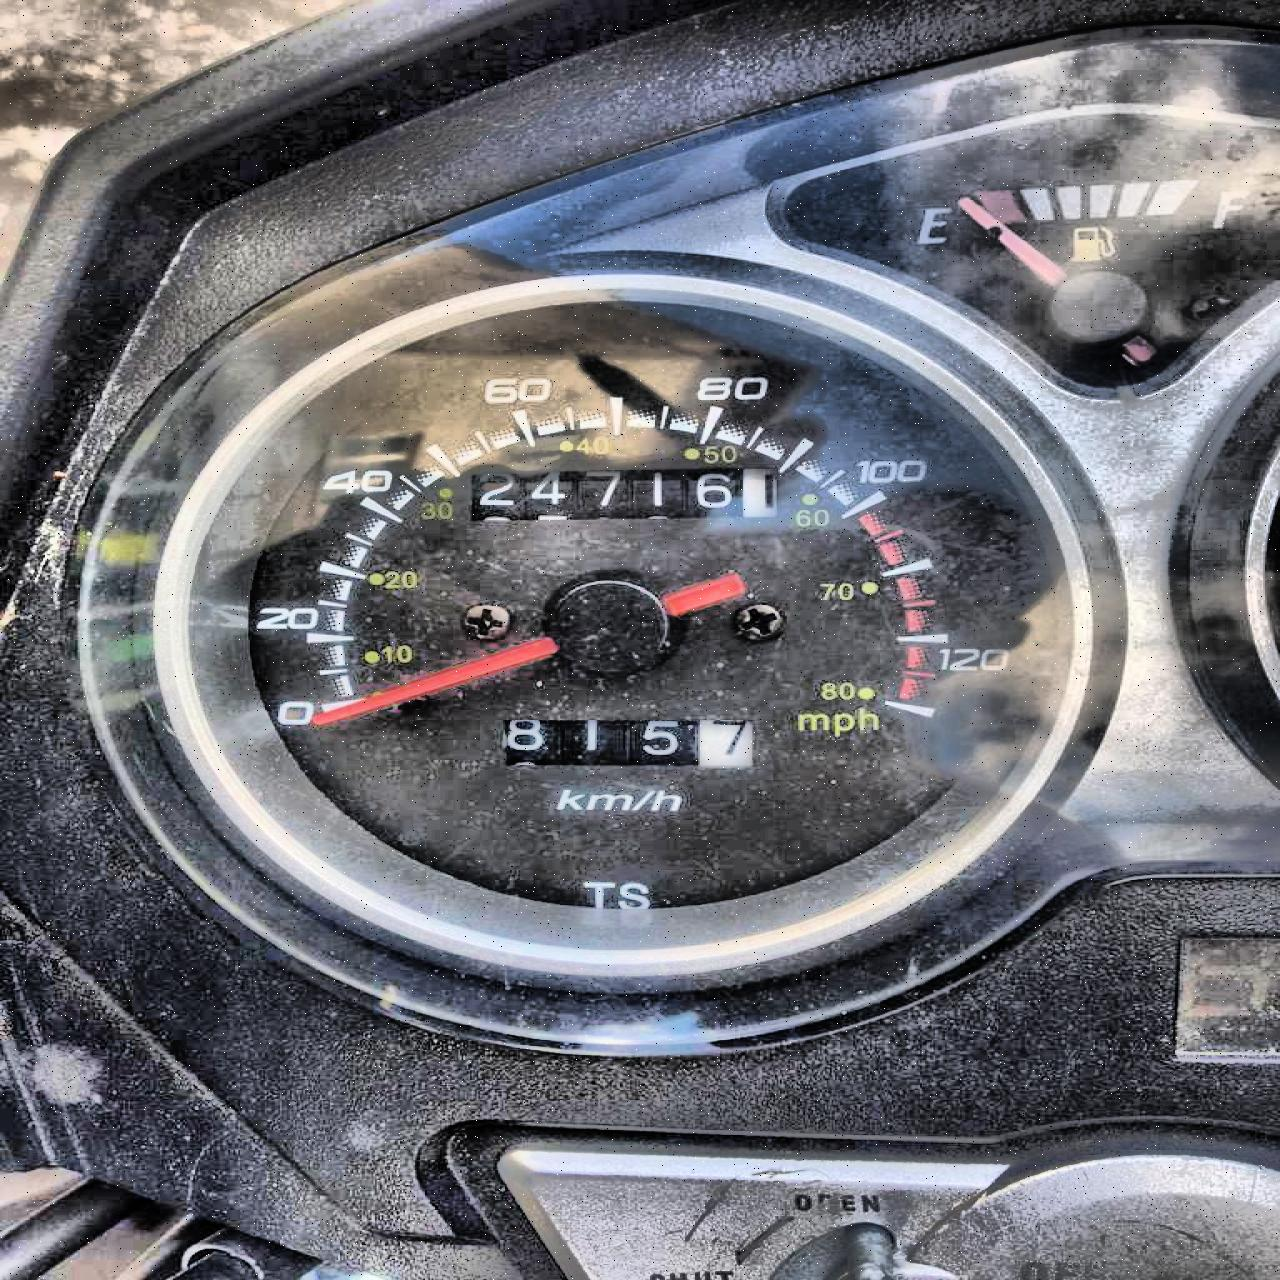1: (762, 471, 774, 509), (651, 469, 662, 506)
2: (477, 471, 516, 505)
4: (529, 470, 567, 504)
6: (693, 471, 730, 508)
7: (584, 470, 621, 506)
odometer: (467, 465, 781, 523)
